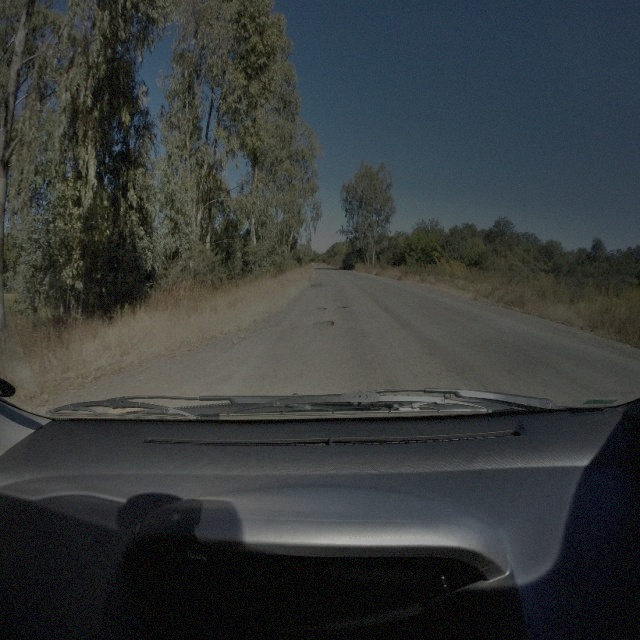pothole: (310, 318, 334, 330), (308, 280, 322, 289), (313, 304, 328, 312), (336, 303, 349, 311)
